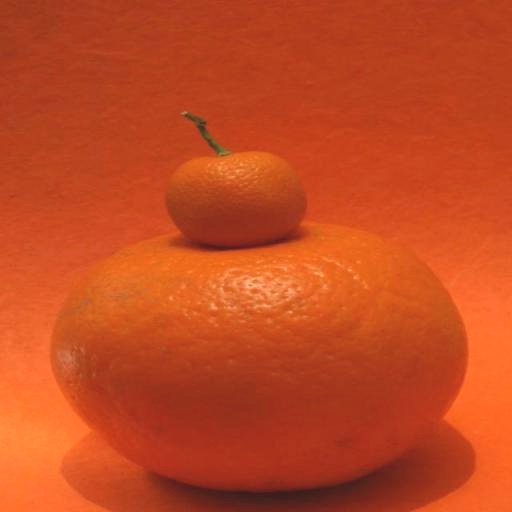fruit: (52, 224, 466, 491), (165, 112, 305, 247)
